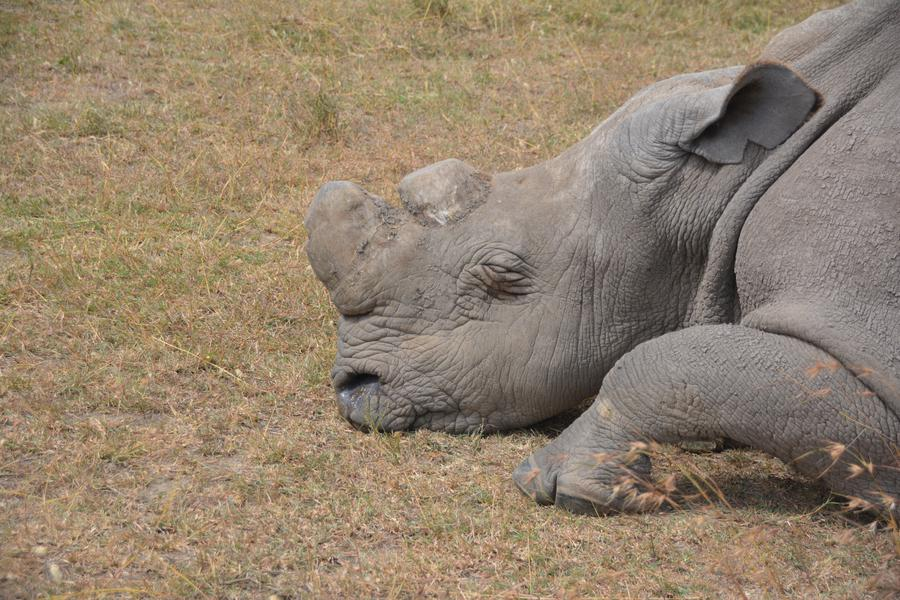rhino: (315, 8, 872, 514)
